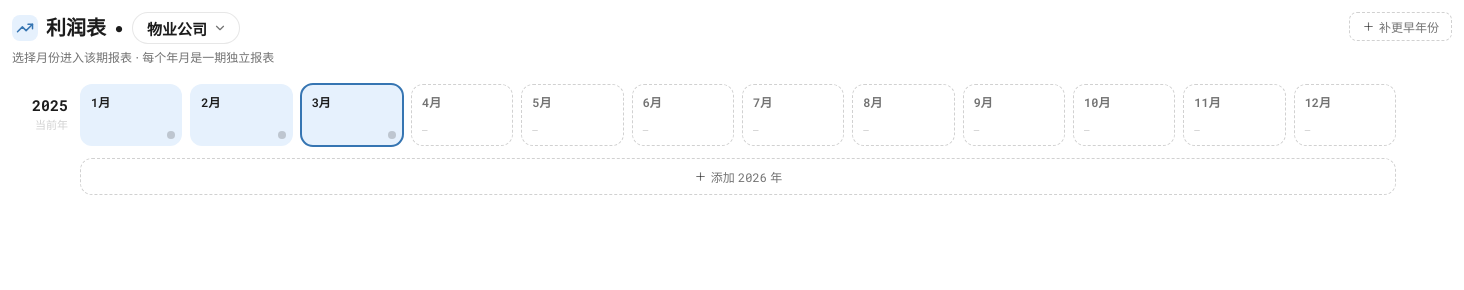
三大报表工作台 · 利润表 › ❗切公司走矩阵标题那颗下拉 —— 不退回第一屏、不重走年份门与月历
The width and height of the screenshot is (1464, 290).
Click the button with class "fcm-btn". click: x=186, y=28
box: [132, 12, 240, 44]
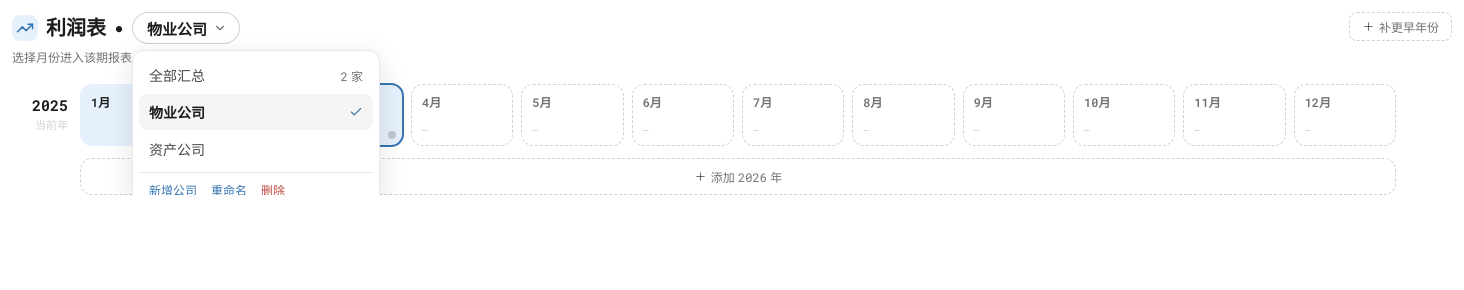
Click the menu item with class "fcm-it" showing "资产公司". click: x=256, y=149
box: [139, 131, 373, 167]
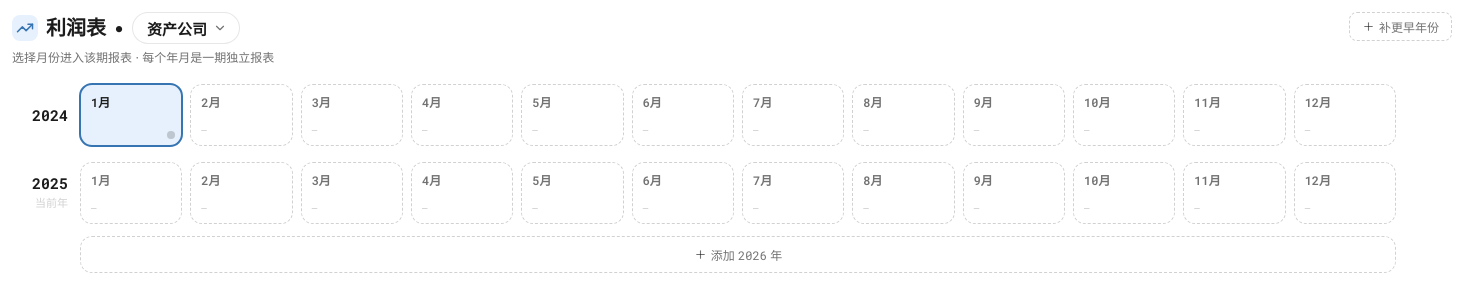
Check: the text "资产公司" is shown, box [147, 18, 207, 38]
Check: the text with class "fcm-cur" reads "资产公司", box [147, 20, 207, 38]
Check: the elements with class "bmm-y" read "2024", "2025", in this order, box [32, 105, 68, 125]; [32, 173, 68, 193]
